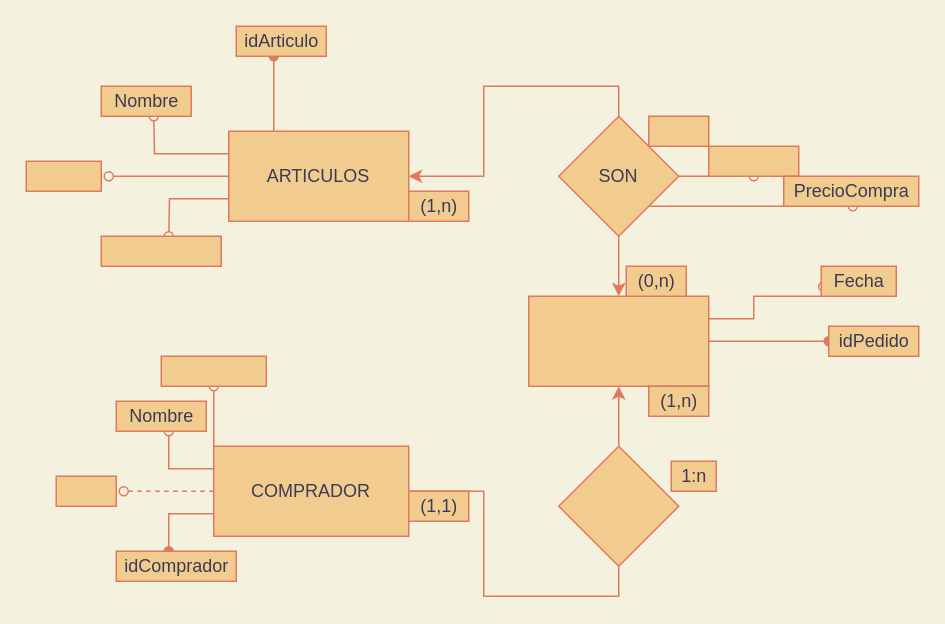
The diagram is 945 pixels wide and 624 high, and some of its shapes have lost their labels. Here are the shapes that lost their labels. From the top down, the centre of each, then its label:
the point at 678,130: n:m
the point at 63,175: Precio
the point at 753,160: Cantidad
the point at 160,250: Descripcion
the point at 618,340: PEDIDOS
the point at 213,370: Direccion
the point at 85,490: DNI
the point at 618,505: HACE
